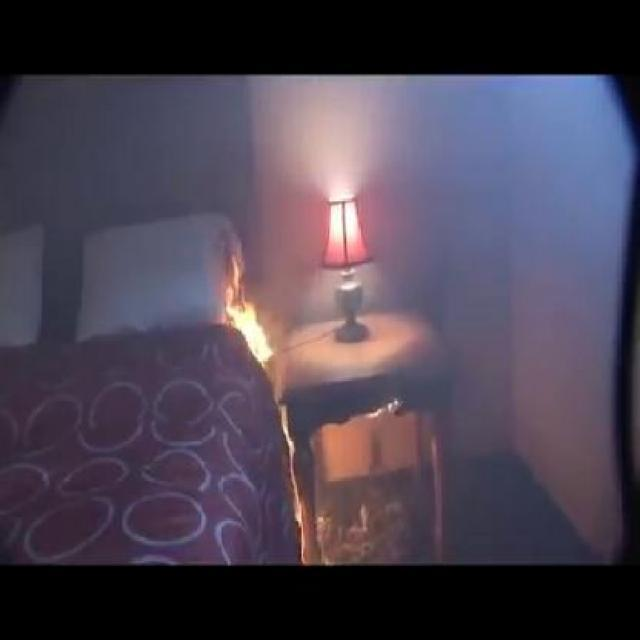fire: (222, 283, 292, 422)
